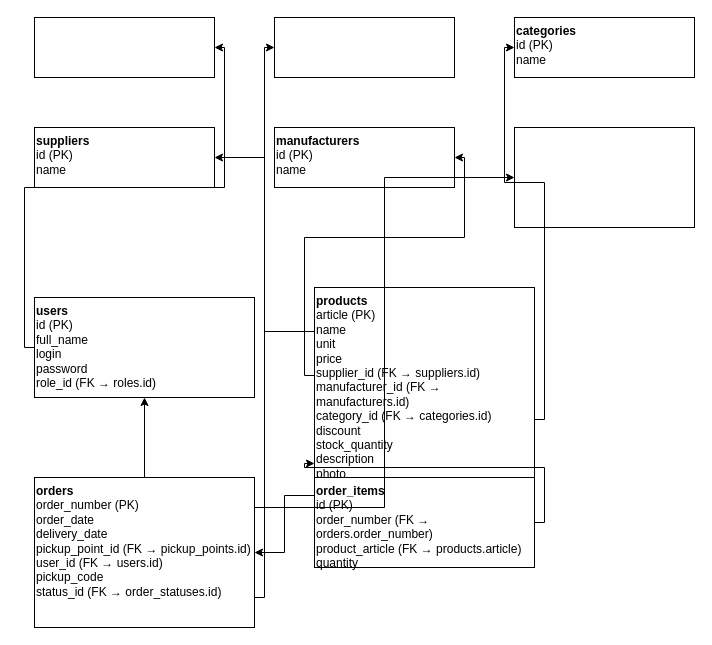
Some shapes in this 712 by 645 pixel diagram are drawn without their labels. Each missing label, with the centre of its shape:
"order_statuses id (PK) name" goes at [364,47].
"pickup_points id (PK) postal_index city street house" goes at [604,177].
"roles id (PK) name" goes at [124,47].
